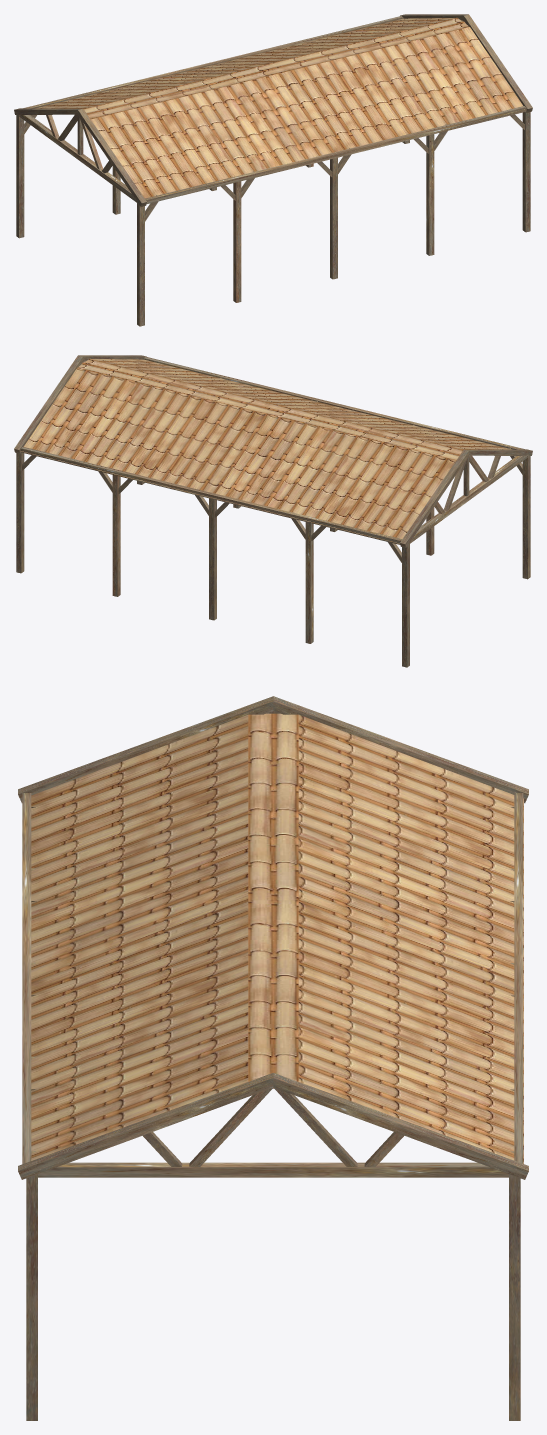
The model's file is Storage_Open_002.dae.
3 views of the same model, one above another, from view 1: azimuth 30°, elevation 25°; view 2: azimuth 150°, elevation 25°; view 3: azimuth 270°, elevation 25° (orthographic). The views are drawn at different scales.
Visible parts, largest first — view 1: Storage_Open_002; view 2: Storage_Open_002; view 3: Storage_Open_002.
Part boxes in pixels (<box>): Storage_Open_002: <box>14,14,532,326</box>; Storage_Open_002: <box>14,355,532,667</box>; Storage_Open_002: <box>18,696,528,1420</box>.
Size of the model in its own units: 97.33 by 55.06 by 40.77.
